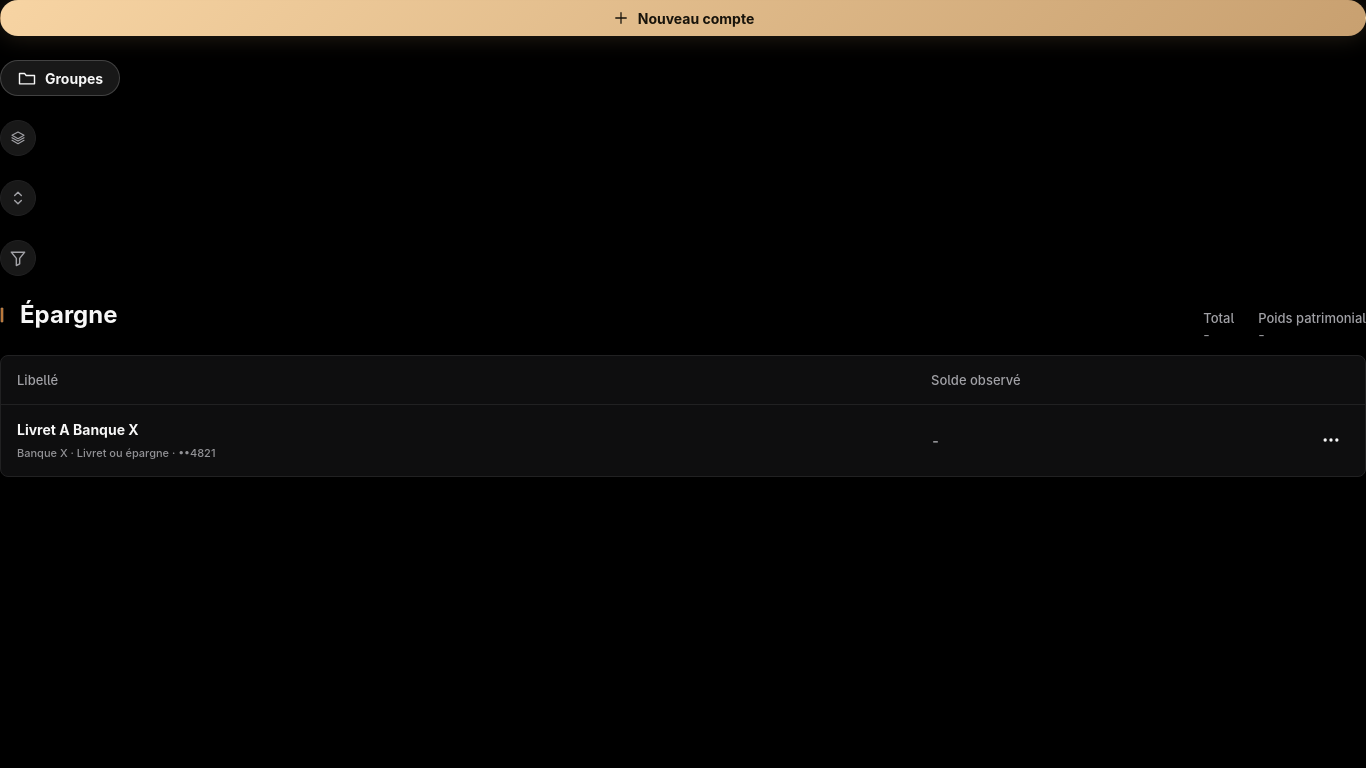
it: AccountsPage › archives an account through a confirmation instead of deleting it
Click the button named "Actions du compte Livret A Banque X" at (1331, 440), box [1313,422,1349,458]
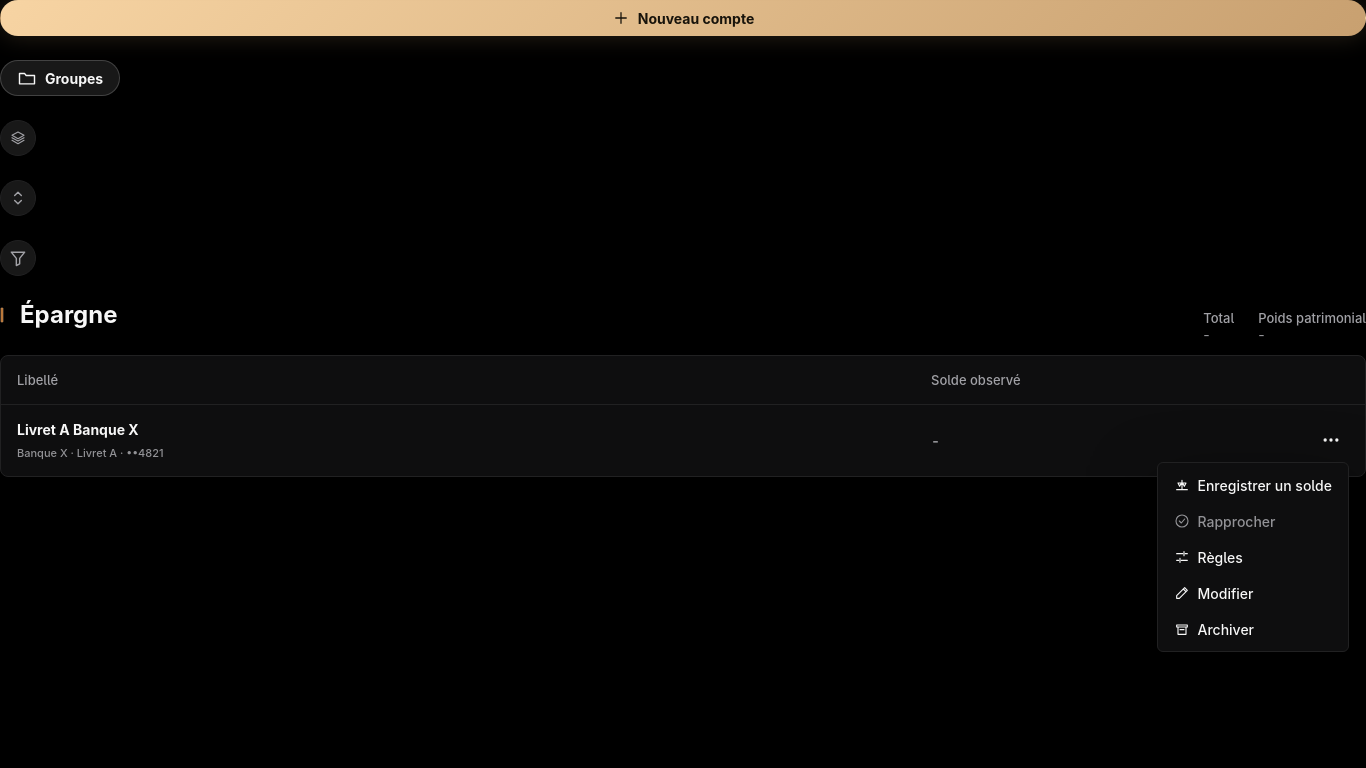
Click the button with aria-label "Archiver le compte Livret A Banque X" at (1253, 629), box [1162,611,1344,647]
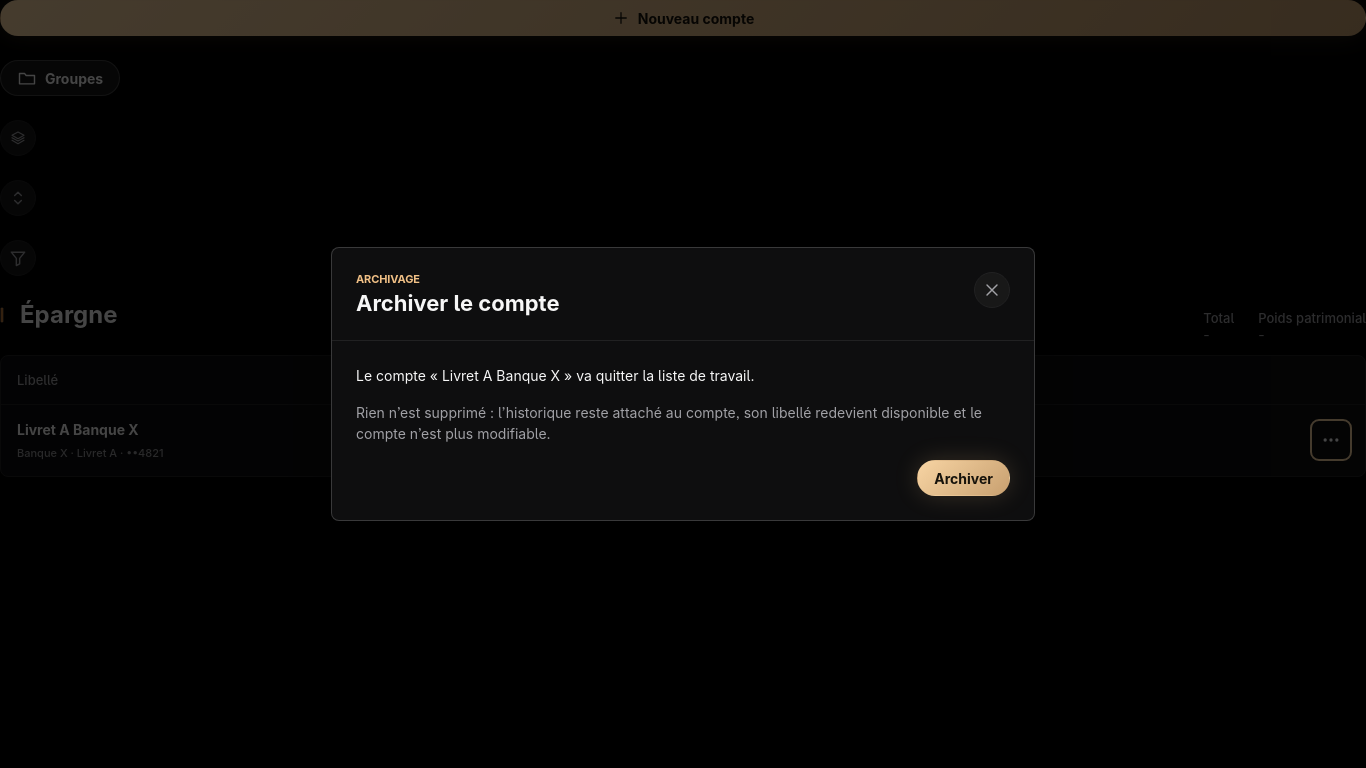
Now the dialog "Archiver le compte" is shown, box [331,247,1035,521]
Click the button "Archiver" at (964, 478), box [917,460,1010,496]
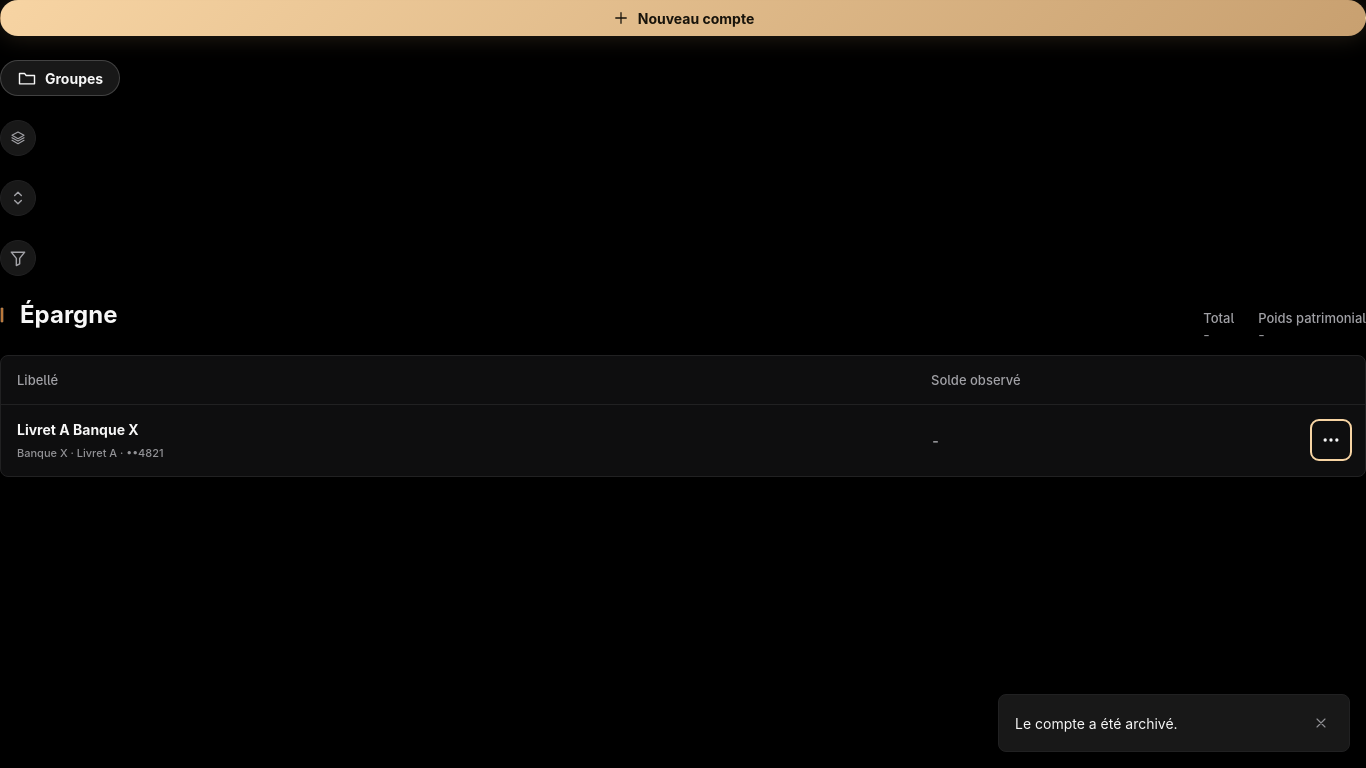
Now the text "Le compte a été archivé." is shown, box [998,694,1350,752]
